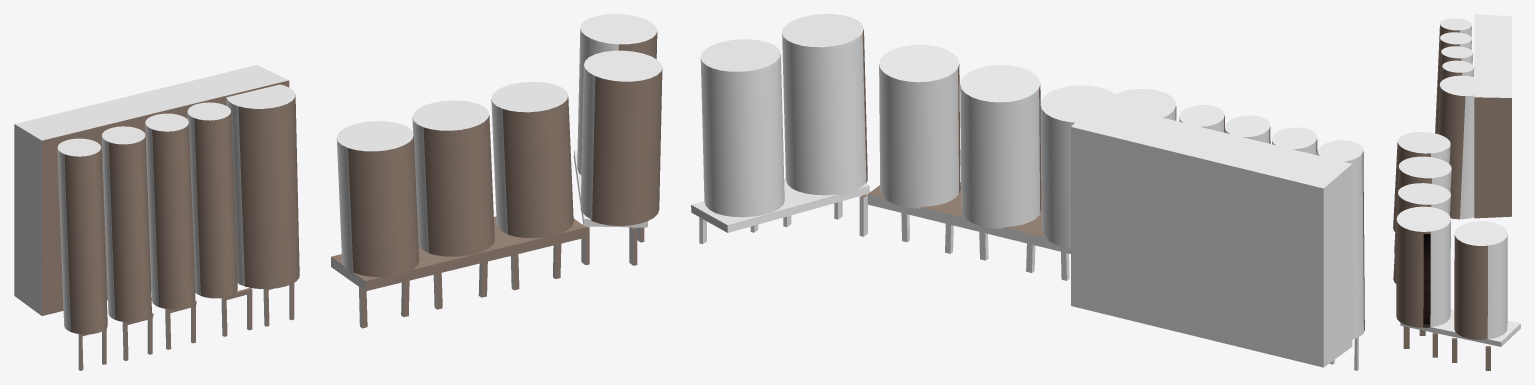
The model's file is New Darker Coal Pockets.fbx.
3 views of the same model, side by side, from view 1: azimuth 30°, elevation 25°; view 2: azimuth 150°, elevation 25°; view 3: azimuth 270°, elevation 25° (orthographic). The views are drawn at different scales.
Visible parts, largest first — view 1: Model; view 2: Model; view 3: Model.
Boxes of the visible parts, x1,y1,x2,y2 form: Model: (14, 14, 662, 370); Model: (691, 14, 1364, 370); Model: (1393, 14, 1520, 370).
Size of the model in its own units: 430 by 149 by 112.
